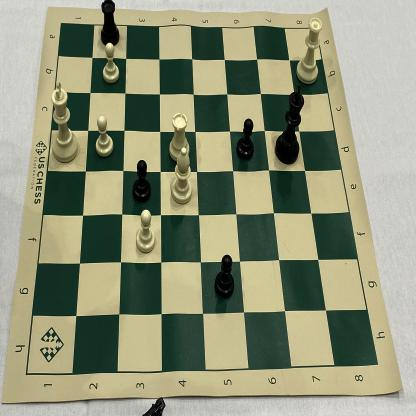bishop: (170, 146, 196, 209)
king: (270, 81, 308, 169), (46, 77, 82, 167)
pawn: (132, 206, 158, 256), (233, 114, 258, 163), (92, 110, 116, 161), (99, 38, 124, 86), (130, 156, 154, 204), (214, 251, 237, 301)
queen: (292, 14, 326, 88)
rook: (165, 108, 195, 166), (98, 0, 122, 50)
